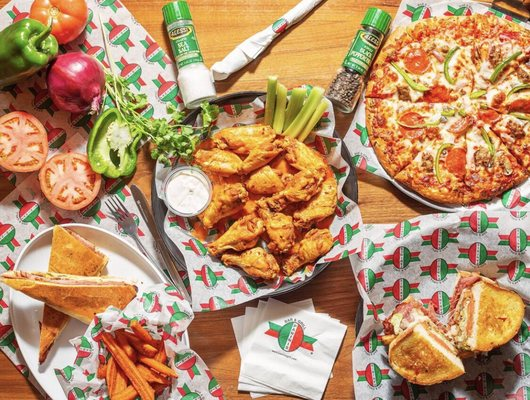sandwich: (210, 1, 327, 82)
sushi: (8, 223, 168, 323)
